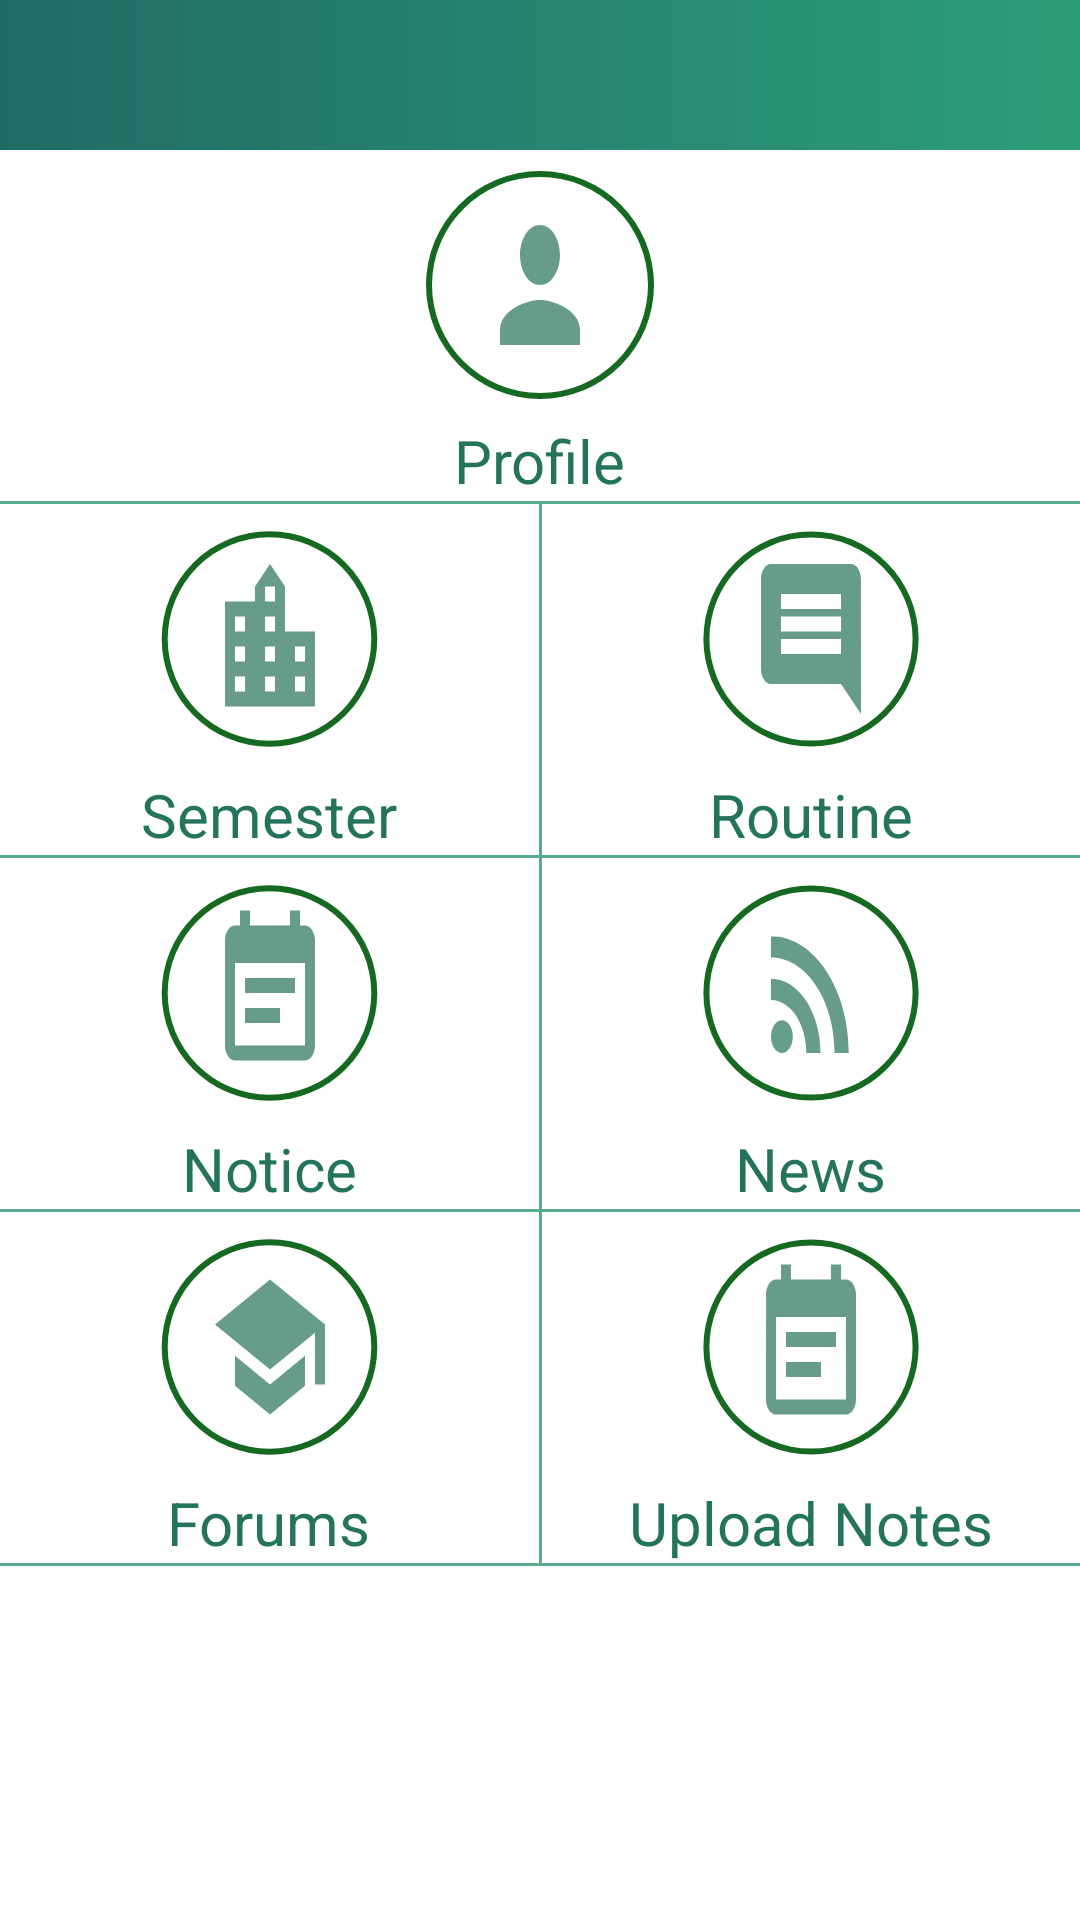

Where to tap for icons on this 1080×1920 app screen, as point (x, y):
colleges dashboard: point (269, 639)
